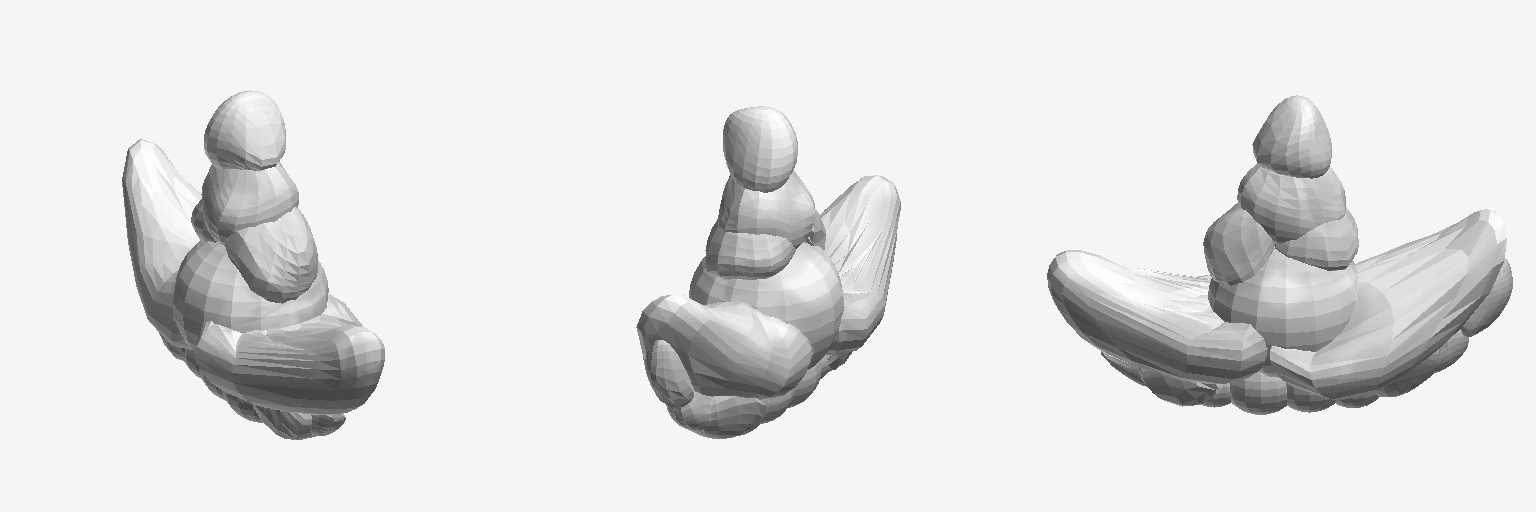
The picture shows the model from 3 angles: view 1: azimuth 30°, elevation 25°; view 2: azimuth 150°, elevation 25°; view 3: azimuth 270°, elevation 25°; orthographic projection.
Visible parts, largest first — view 1: Sphere.013; view 2: Sphere.013; view 3: Sphere.013.
Boxes of the visible parts, x1,y1,x2,y2 form: Sphere.013: [122, 90, 384, 439]; Sphere.013: [636, 106, 900, 438]; Sphere.013: [1047, 95, 1512, 414].
Bounding box in the file's own units: 38.68 × 72.09 × 97.67.
1 materials, 1 textured.